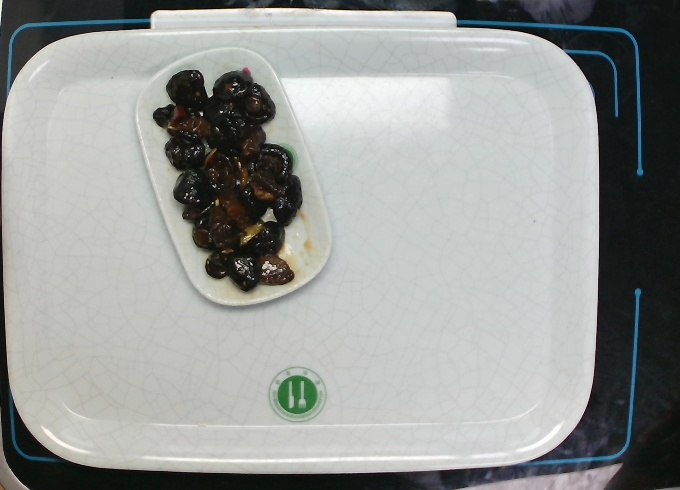WCQzf-Tuo_Yuan_Pan: (129, 43, 338, 311)
